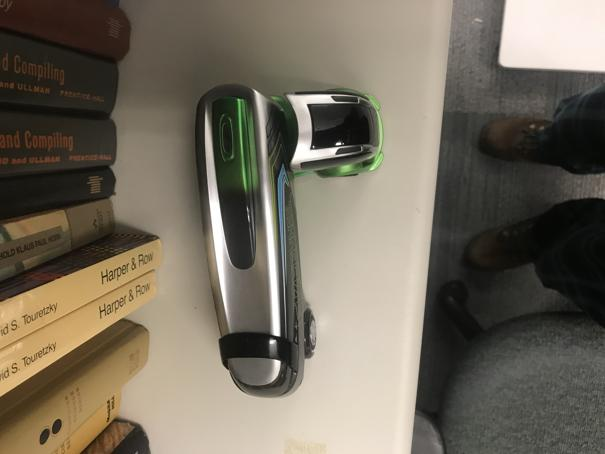Freewheel: (194, 84, 385, 399)
